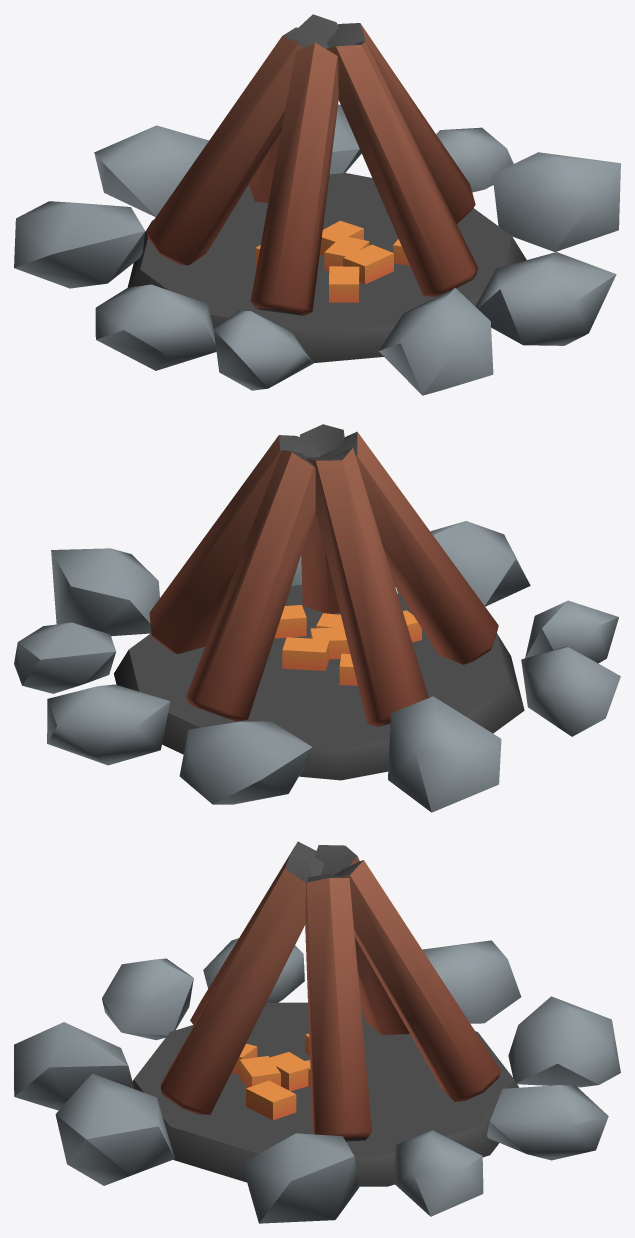
The model's file is campfire.fbx.
3 views of the same model, one above another, from view 1: azimuth 30°, elevation 25°; view 2: azimuth 150°, elevation 25°; view 3: azimuth 270°, elevation 25° (orthographic). The views are drawn at different scales.
Parts seen in each view (by area): view 1: campfire; view 2: campfire; view 3: campfire.
Part boxes in pixels (x1,y1,x2,y2): campfire: [14, 14, 620, 395]; campfire: [14, 424, 620, 812]; campfire: [14, 841, 620, 1223].
Size of the model in its own units: 0.4925 by 0.2381 by 0.4849.
1 material, 1 textured.
